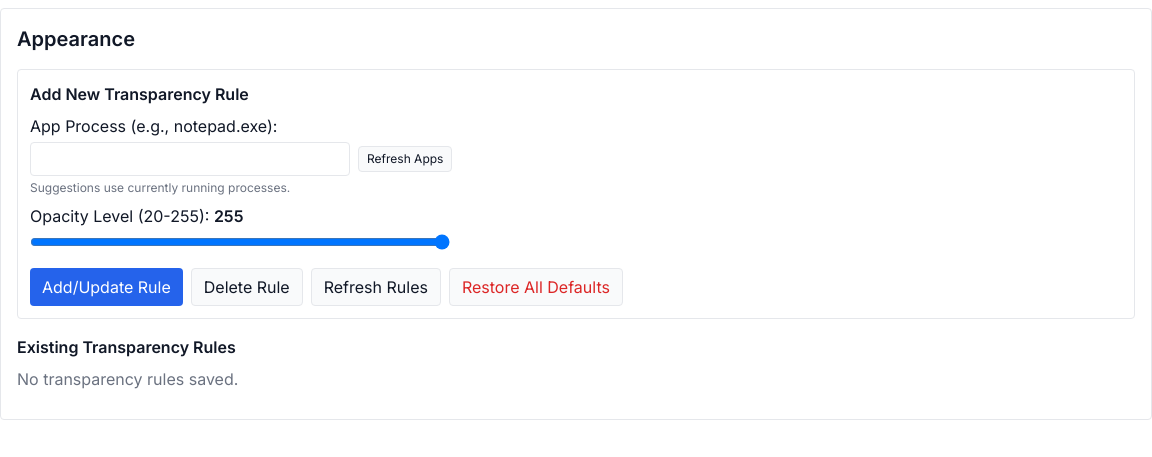
Test: AppearanceTab › shows validation on save without app process
The width and height of the screenshot is (1152, 457).
Click the button "Add/Update Rule" at (106, 287), box [30, 268, 183, 306]
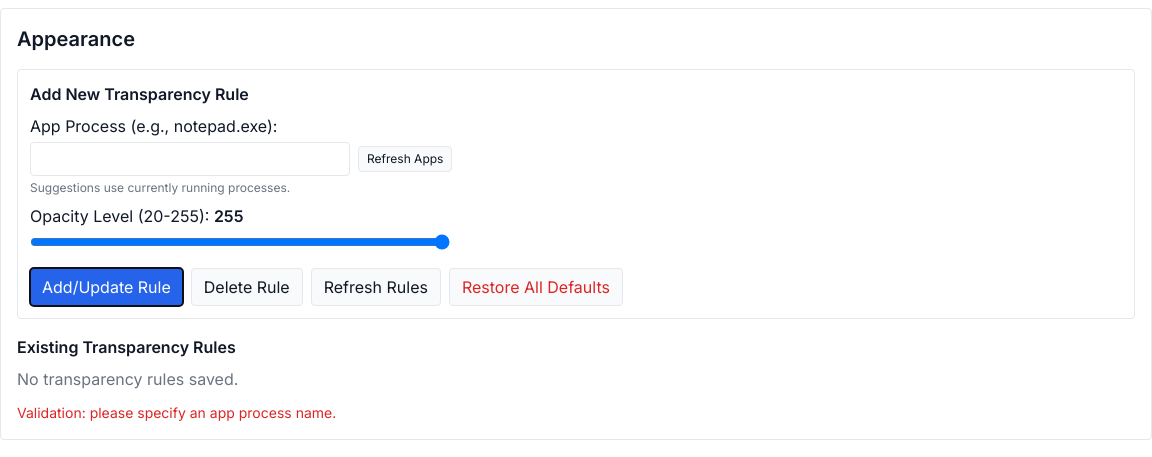
Now the text "Validation: please specify an app process name." is shown, box [17, 404, 336, 421]
